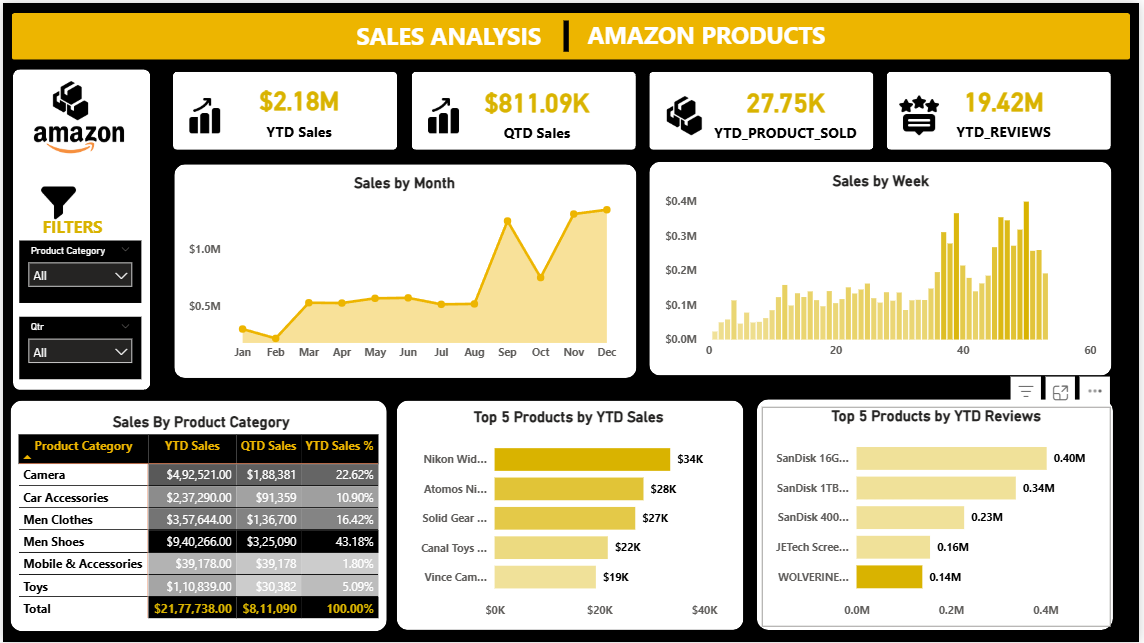

The page's visual inventory and layout, read from the dashboard file:
{"tool":"powerbi","page":{"name":"Page 1","canvas":[1280,720],"ordinal":0},"visuals":[{"type":"shape","box":[9.8,11,1260.1,52.8],"z":0},{"type":"textbox","box":[392.6,14.4,233.1,57.7],"z":0,"group":"g1"},{"type":"textbox","box":[652.7,13.2,289.6,57.7],"z":1000,"group":"g1"},{"type":"shape","box":[10.7,74.7,154.7,361.3],"z":1000},{"type":"group","id":"g1","title":"Group 1","box":[392.6,13.2,549.7,58.9],"z":2000},{"type":"shape","box":[601.2,19.6,66.3,35.6],"z":3000},{"type":"group","id":"g2","title":"Group 2","box":[191.4,76,252.5,89.3],"z":4000},{"type":"shape","box":[191.4,77.3,252.5,88],"z":4001,"group":"g2"},{"type":"shape","box":[996.1,77.3,252.5,88],"z":4001,"group":"g5"},{"type":"shape","box":[728.2,77.4,252.5,88],"z":4001,"group":"g4"},{"type":"shape","box":[460.2,78,252.5,88],"z":4001,"group":"g3"},{"type":"card","fields":{"Values":["Amazon_Data.QTD"]},"box":[524.8,75.2,152.9,93.8],"z":4501,"group":"g3"},{"type":"card","fields":{"Values":["Amazon_Data.YTD"]},"box":[268.7,76,129.8,88],"z":4501,"group":"g2"},{"type":"card","fields":{"Values":["Amazon_Data.YTD_REVIEWS"]},"box":[1055.1,76,145.7,89.5],"z":4501,"group":"g5"},{"type":"card","fields":{"Values":["Amazon_Data.YTD_PRODUCT_SOLD"]},"box":[782.7,76.3,197.7,90.9],"z":4501,"group":"g4"},{"type":"group","id":"g3","title":"Group 2","box":[460.2,75.2,252.5,93.8],"z":5000},{"type":"group","id":"g4","title":"Group 2","box":[728.2,76.3,252.5,90.9],"z":6000},{"type":"group","id":"g5","title":"Group 2","box":[996.1,76,252.5,89.5],"z":7000},{"type":"shape","box":[192.3,182.2,520.8,240.9],"z":8000},{"type":"areaChart","title":"Sales by Month","fields":{"Category":["Date Table.Month_Name"],"Y":["Amazon_Data.Total_Sales"]},"box":[203.8,192.3,496.3,219.3],"z":9000},{"type":"shape","box":[728.6,179.5,520.8,240.9],"z":10000},{"type":"clusteredColumnChart","title":"Sales by Week","fields":{"Y":["Amazon_Data.Total_Sales"],"Category":["Date Table.Week"]},"box":[740.1,189.6,496.3,219.3],"z":11000},{"type":"shape","box":[8,448,424,260],"z":12000},{"type":"pivotTable","title":"Sales By Product Category","fields":{"Rows":["Amazon_Data.Product Category"],"Values":["Amazon_Data.YTD Sales","Amazon_Data.QTD Sales","Amazon_Data.YTD Sales %"]},"box":[12,461.3,421.3,246.7],"z":13000},{"type":"shape","box":[444,448,390.7,258.7],"z":14000},{"type":"shape","box":[849.3,446.7,401.3,260],"z":15000},{"type":"clusteredBarChart","title":"Top 5 Products by YTD Sales","fields":{"Y":["Amazon_Data.YTD Sales"],"Category":["Amazon_Data.Product Description"]},"box":[452,456,370.7,246.7],"z":16000},{"type":"clusteredBarChart","title":"Top 5 Products by YTD Reviews","fields":{"Category":["Amazon_Data.Product Description"],"Y":["Amazon_Data.YTD_REVIEWS"]},"box":[854.7,454.7,393.3,248],"z":17000},{"type":"slicer","fields":{"Values":["Amazon_Data.Product Category"]},"box":[18.7,268,137.3,70.7],"z":18000},{"type":"slicer","fields":{"Values":["Date Table.Qtr"]},"box":[18.7,353.3,137.3,70.7],"z":19000},{"type":"textbox","box":[39,233.7,95.2,34.6],"z":20000},{"type":"image","box":[18.8,119.7,134.2,62],"z":21000},{"type":"image","box":[204.9,92.3,46.2,67.8],"z":22000},{"type":"image","box":[473.2,92.3,46.2,67.8],"z":23000},{"type":"image","box":[743,92.3,47.6,67.8],"z":24000},{"type":"image","box":[1009.9,92.3,44.7,67.8],"z":25000},{"type":"image","box":[39,193.3,46.2,62],"z":25001},{"type":"image","box":[51.9,76.5,47.6,67.8],"z":25002}]}

Visuals, with their boxes in screenshot pixels (x1, y1, x2, y2), scaled from the page's 1280x720 canvas onto the 1144x643 screenshot:
shape: (9,10,1135,57)
textbox: (351,13,559,64)
textbox: (583,12,842,63)
shape: (10,67,148,389)
"Group 1" group: (351,12,842,64)
shape: (537,18,597,49)
"Group 2" group: (171,68,397,148)
shape: (171,69,397,148)
shape: (890,69,1116,148)
shape: (651,69,877,148)
shape: (411,70,637,148)
card - Amazon_Data.QTD: (469,67,606,151)
card - Amazon_Data.YTD: (240,68,356,146)
card - Amazon_Data.YTD_REVIEWS: (943,68,1073,148)
card - Amazon_Data.YTD_PRODUCT_SOLD: (700,68,876,149)
"Group 2" group: (411,67,637,151)
"Group 2" group: (651,68,877,149)
"Group 2" group: (890,68,1116,148)
shape: (172,163,637,378)
"Sales by Month" areaChart: (182,172,626,368)
shape: (651,160,1117,375)
"Sales by Week" clusteredColumnChart: (661,169,1105,365)
shape: (7,400,386,632)
"Sales By Product Category" pivotTable: (11,412,387,632)
shape: (397,400,746,631)
shape: (759,399,1118,631)
"Top 5 Products by YTD Sales" clusteredBarChart: (404,407,735,628)
"Top 5 Products by YTD Reviews" clusteredBarChart: (764,406,1115,628)
slicer - Amazon_Data.Product Category: (17,239,139,302)
slicer - Date Table.Qtr: (17,316,139,379)
textbox: (35,209,120,240)
image: (17,107,137,162)
image: (183,82,224,143)
image: (423,82,464,143)
image: (664,82,707,143)
image: (903,82,943,143)
image: (35,173,76,228)
image: (46,68,89,129)
